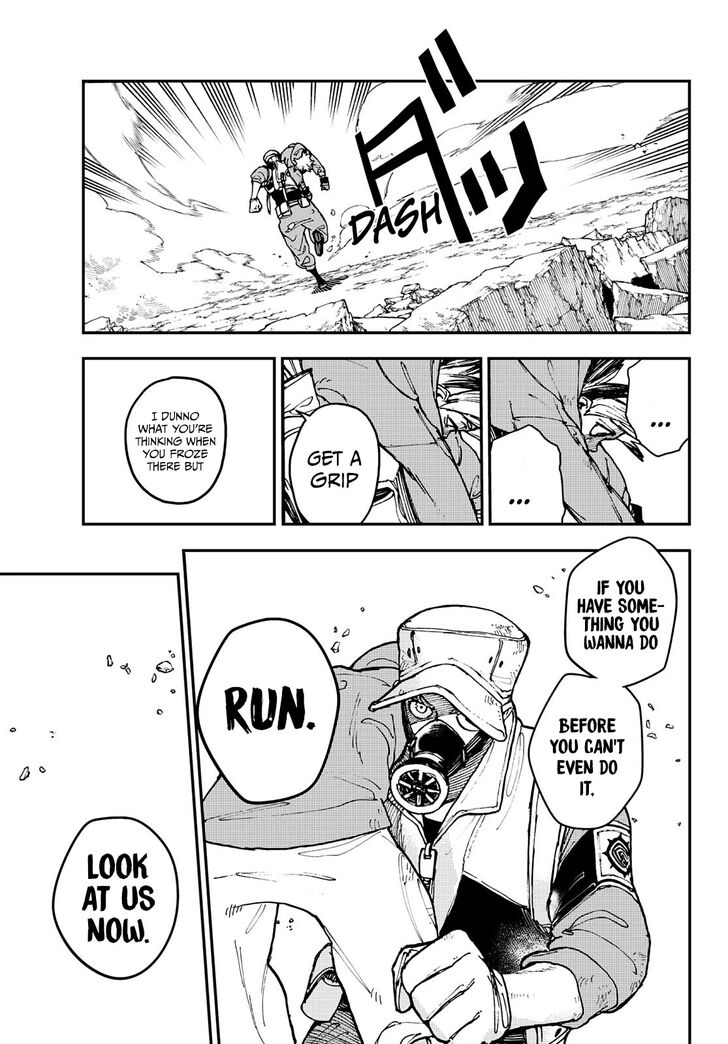bubble: (196, 619, 340, 803), (53, 818, 178, 980), (528, 674, 642, 829), (565, 537, 676, 687), (124, 377, 226, 504), (289, 404, 380, 524), (489, 424, 566, 524), (625, 358, 690, 457)
